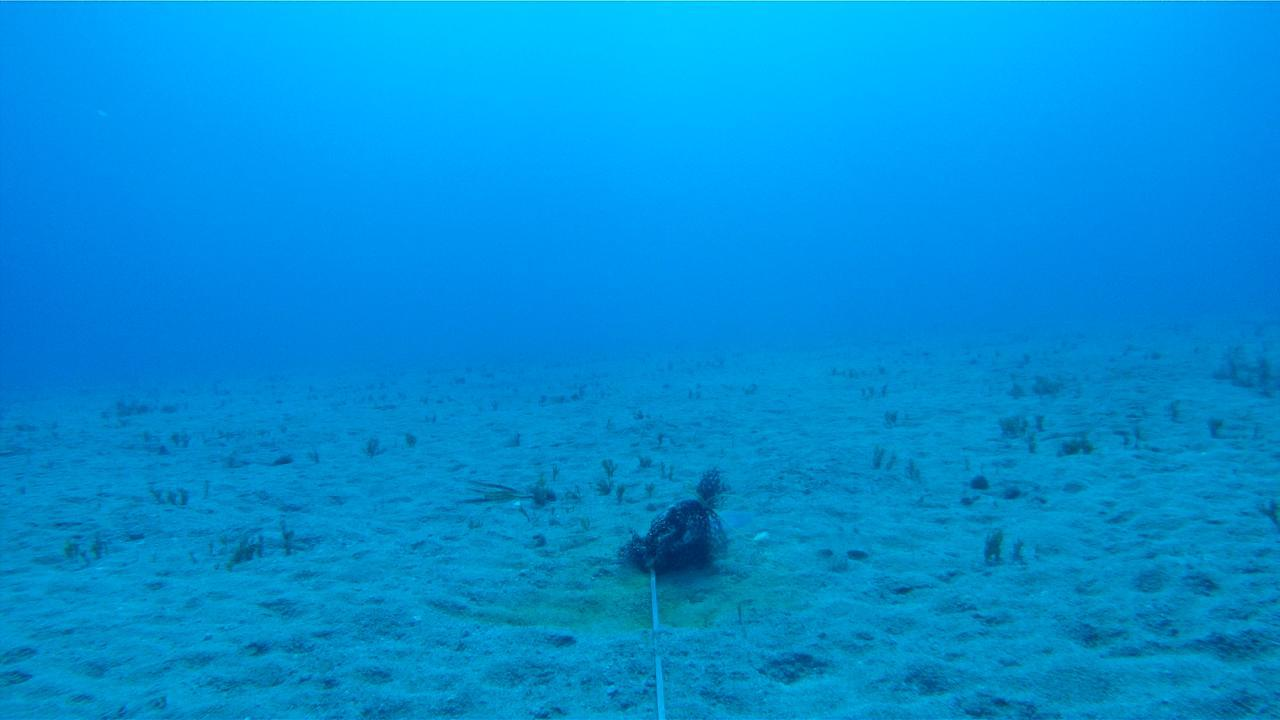bothus: (809, 524, 871, 570)
